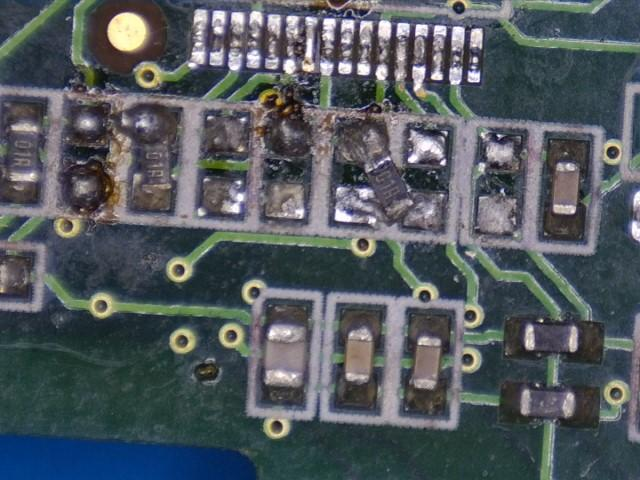Incorrect_installation: (335, 120, 416, 227), (120, 104, 182, 213)
Short_circuit: (334, 187, 446, 231)
